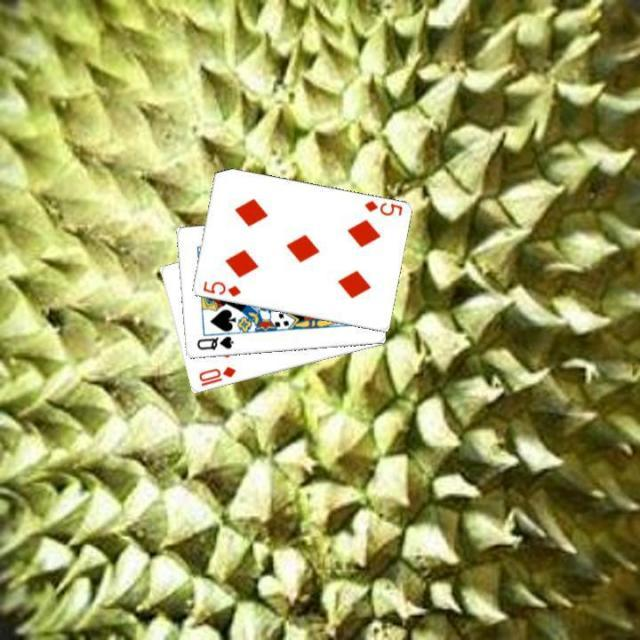10D: (195, 362, 238, 388)
5D: (199, 277, 243, 299), (361, 196, 404, 218)
QS: (192, 332, 235, 352)
